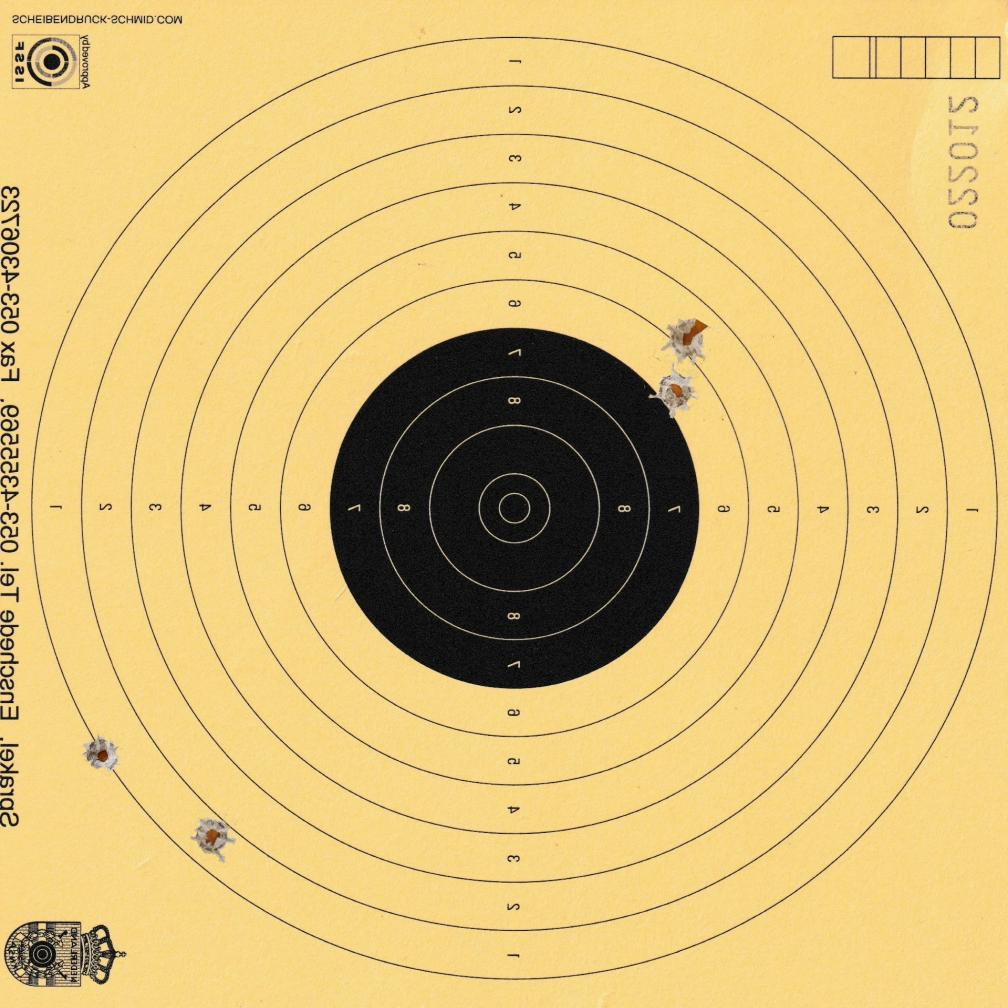1: (190, 818, 236, 863), (84, 736, 117, 774)
6: (659, 320, 710, 361)
7: (648, 362, 696, 418)
Target: (32, 30, 1004, 982)
black_contour: (328, 326, 700, 686)
